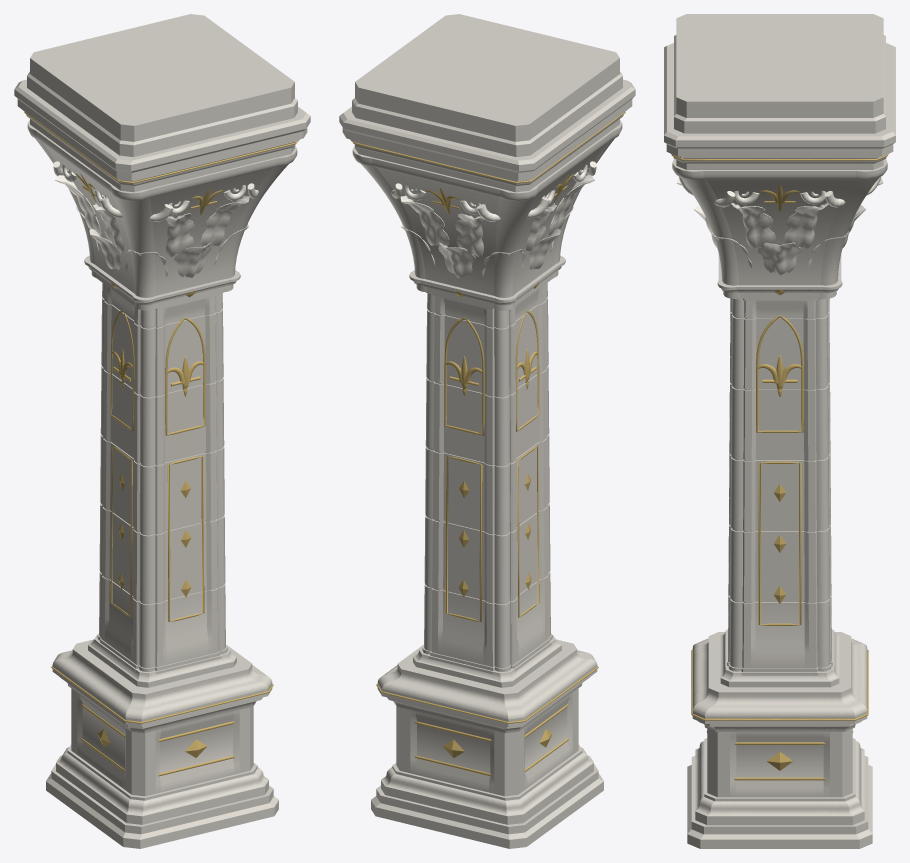
Rendered from RoyalPier.fbx.
3 renders of one model, left to right at view 1: azimuth 30°, elevation 25°; view 2: azimuth 150°, elevation 25°; view 3: azimuth 270°, elevation 25°, orthographic. The views are drawn at different scales.
Visible parts, largest first — view 1: RoyalPier_shaft, RoyalPier_entablature, RoyalPier_pedestal, RoyalPier_capital, RoyalPier_reliefs; view 2: RoyalPier_shaft, RoyalPier_entablature, RoyalPier_pedestal, RoyalPier_capital, RoyalPier_reliefs; view 3: RoyalPier_shaft, RoyalPier_entablature, RoyalPier_pedestal, RoyalPier_capital, RoyalPier_reliefs.
Part boxes in pixels (left/top/right/bottom): RoyalPier_shaft: left=96, top=283, right=229, bottom=674; RoyalPier_entablature: left=14, top=14, right=310, bottom=192; RoyalPier_pedestal: left=46, top=635, right=278, bottom=848; RoyalPier_capital: left=27, top=120, right=297, bottom=310; RoyalPier_reliefs: left=24, top=112, right=297, bottom=776; RoyalPier_shaft: left=420, top=283, right=552, bottom=674; RoyalPier_entablature: left=339, top=14, right=635, bottom=192; RoyalPier_pedestal: left=371, top=635, right=603, bottom=848; RoyalPier_capital: left=352, top=120, right=622, bottom=310; RoyalPier_reliefs: left=352, top=112, right=625, bottom=776; RoyalPier_shaft: left=725, top=298, right=834, bottom=675; RoyalPier_entablature: left=664, top=14, right=895, bottom=169; RoyalPier_pedestal: left=687, top=629, right=872, bottom=848; RoyalPier_capital: left=672, top=159, right=887, bottom=298; RoyalPier_reliefs: left=671, top=154, right=888, bottom=780.
Bounding box in the file's own units: 190 × 680 × 190.
